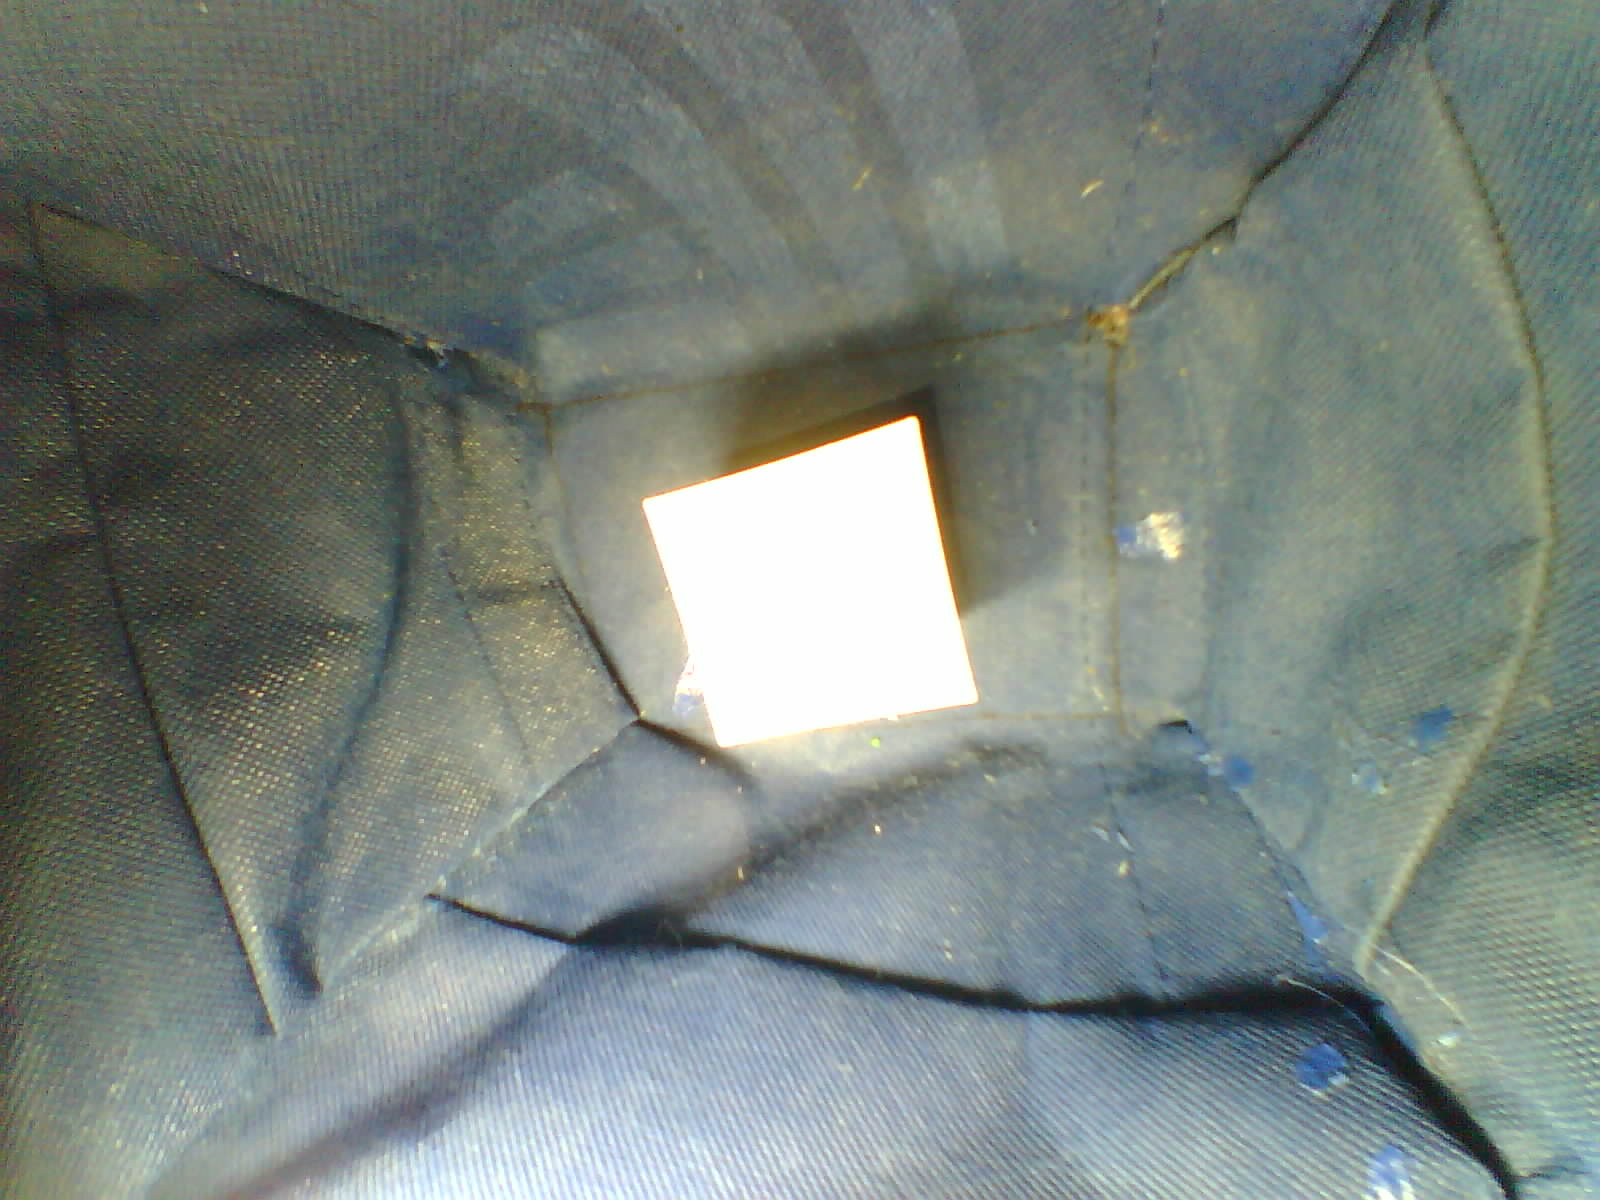cube-hard: (617, 408, 989, 761)
